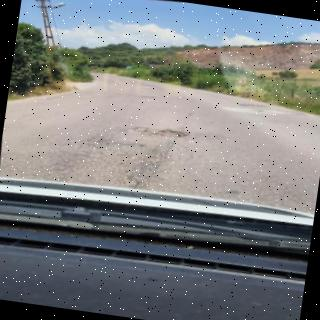pothole: (133, 126, 189, 137)
